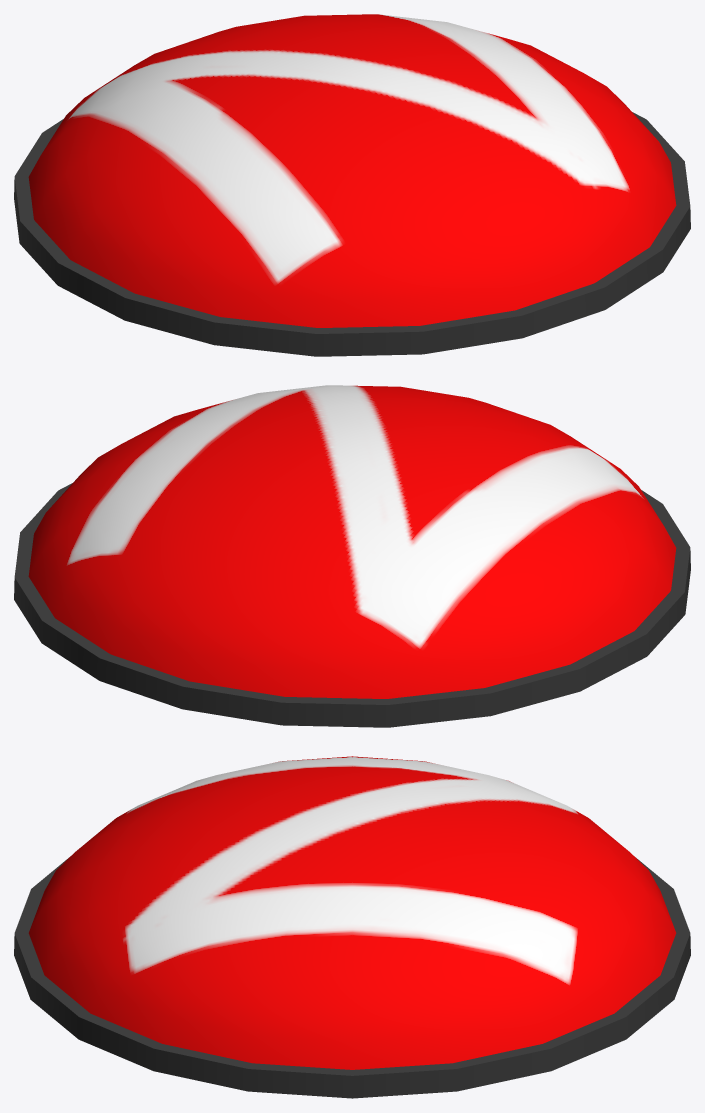
File: MagnetN.fbx
The picture shows the model from 3 angles, top to bottom: view 1: azimuth 30°, elevation 25°; view 2: azimuth 150°, elevation 25°; view 3: azimuth 270°, elevation 25°; orthographic projection.
Parts seen in each view (by area): view 1: MagnetN; view 2: MagnetN; view 3: MagnetN.
Boxes of the visible parts, x1,y1,x2,y2 form: MagnetN: (14,14,690,356); MagnetN: (14,385,690,727); MagnetN: (14,756,690,1098).
Size of the model in its own units: 2.06 by 0.481 by 2.06.
Materials: 1 (1 with a texture image).
